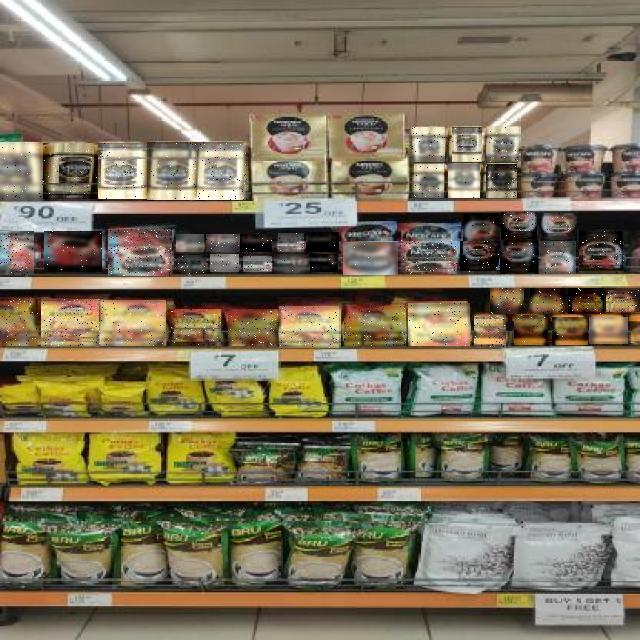Coffee: (42, 143, 98, 199), (108, 229, 172, 276), (42, 299, 104, 347), (147, 142, 198, 200), (102, 300, 166, 346), (198, 142, 248, 200), (98, 143, 147, 199), (408, 303, 470, 346), (0, 142, 43, 201), (279, 306, 339, 348), (345, 306, 407, 346), (44, 232, 102, 274), (400, 240, 457, 274), (580, 232, 626, 274), (344, 242, 400, 275), (171, 310, 221, 346), (0, 299, 38, 346), (228, 312, 278, 346), (0, 231, 34, 275), (500, 240, 538, 274), (460, 242, 500, 274), (539, 241, 576, 274), (412, 127, 445, 162), (487, 127, 519, 162), (589, 318, 628, 346), (448, 164, 480, 198), (486, 164, 517, 198), (452, 127, 482, 162), (474, 316, 506, 348), (414, 164, 444, 198), (514, 315, 548, 345), (463, 213, 499, 241), (501, 212, 537, 240), (541, 213, 577, 241), (552, 317, 588, 345), (568, 288, 604, 314), (530, 288, 565, 314), (490, 289, 524, 315), (606, 290, 640, 312), (274, 254, 309, 274), (306, 233, 339, 253), (206, 234, 240, 252), (240, 234, 272, 252), (176, 255, 206, 274), (210, 254, 239, 272), (176, 234, 204, 252), (311, 254, 339, 272), (278, 233, 304, 252), (243, 256, 272, 272)
